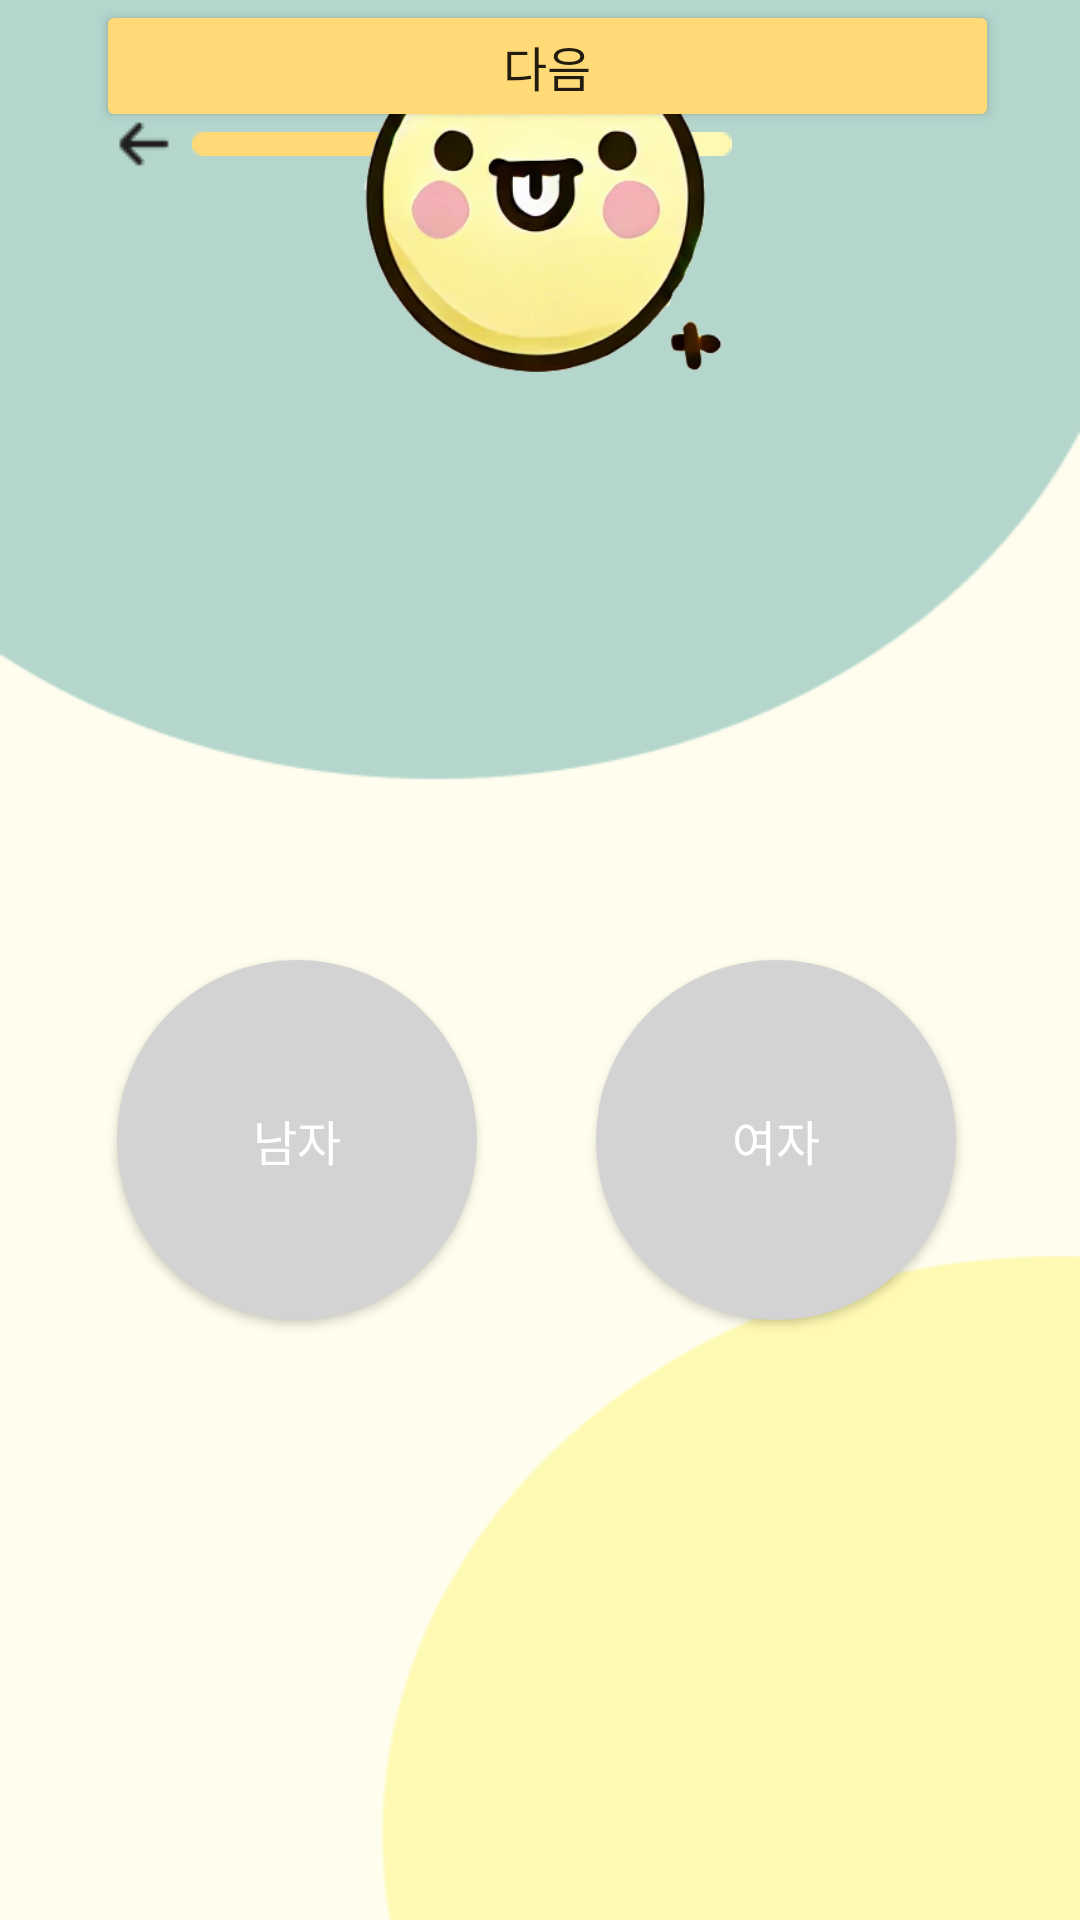

Named icons in this screenshot (1080w x 1920h) and their centers, [x,y]:
arrow left: [144,144]
